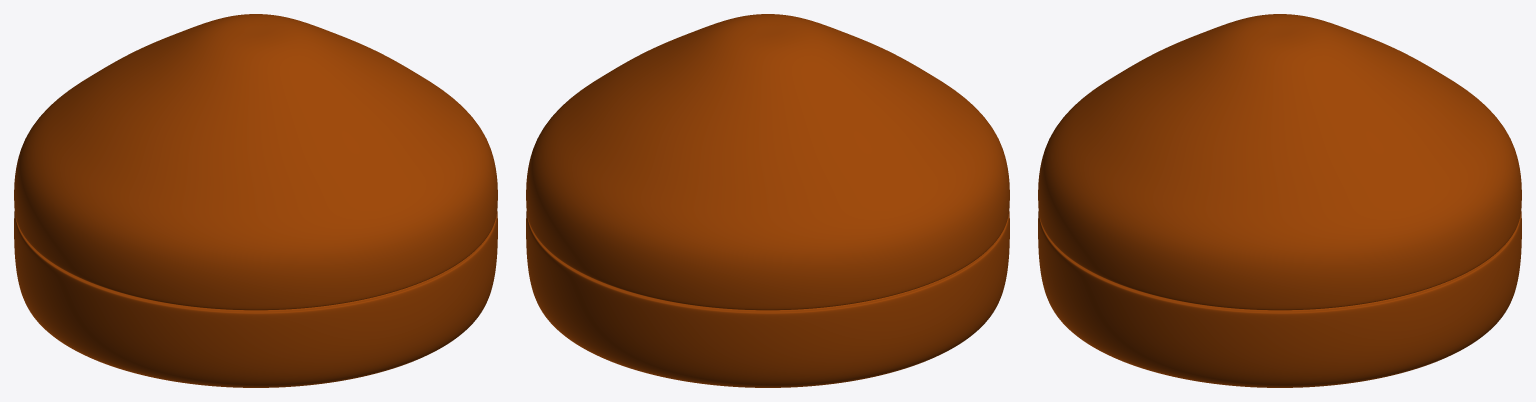
The model's file is Bullet_Scaled_Fixed.glb.
3 views of the same model, side by side, from view 1: azimuth 30°, elevation 25°; view 2: azimuth 150°, elevation 25°; view 3: azimuth 270°, elevation 25° (orthographic).
Parts seen in each view (by area): view 1: Bullet; view 2: Bullet; view 3: Bullet.
Part boxes in pixels (x1,y1,x2,y2): Bullet: (14, 14, 497, 387); Bullet: (526, 14, 1009, 387); Bullet: (1038, 14, 1521, 387).
Bounding box in the file's own units: 0.25 × 0.15 × 0.25.
